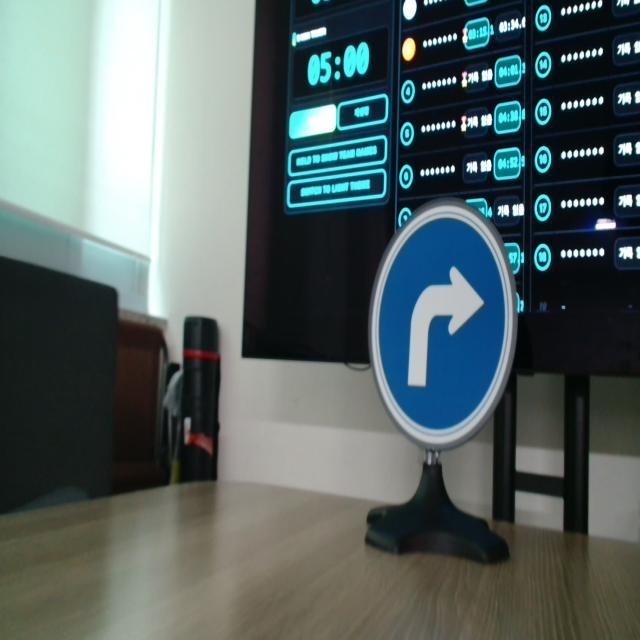right_dierection: (357, 188, 530, 456)
